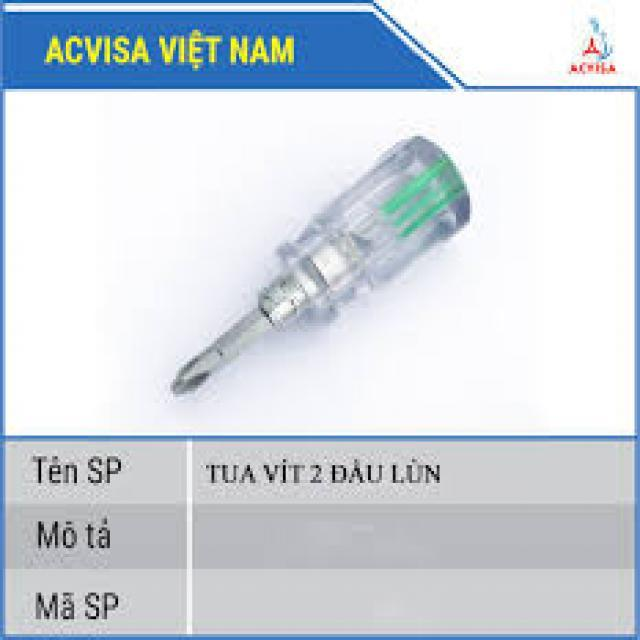screwdriver: (161, 130, 474, 397)
